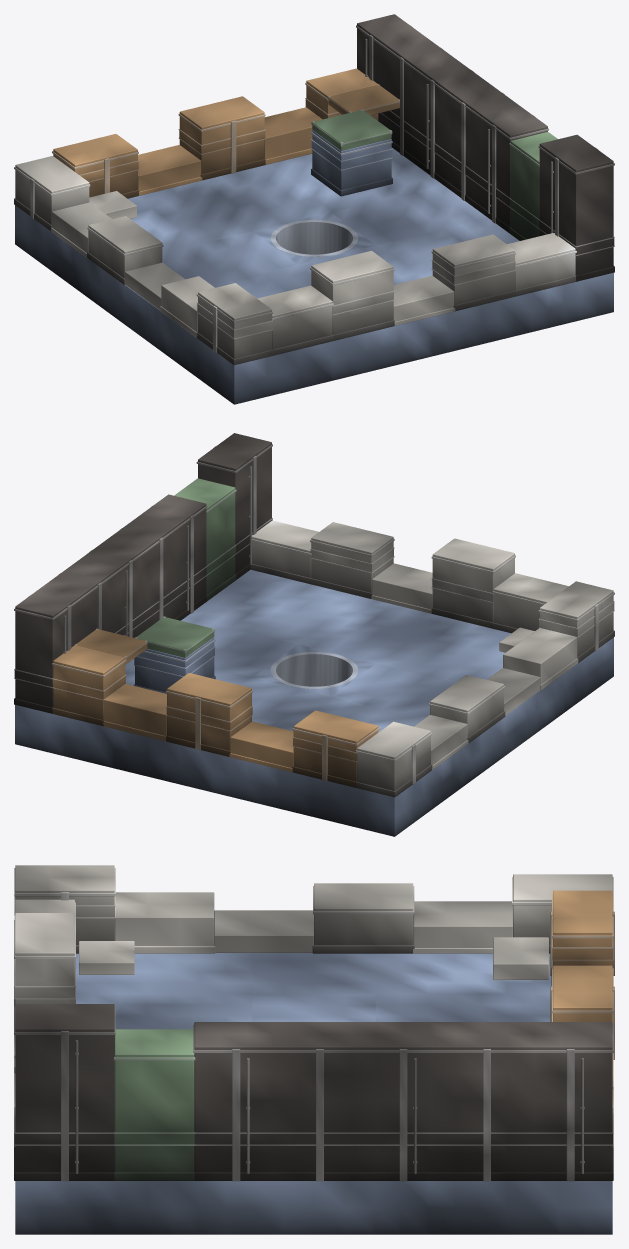
Rendered from SM_SecretTower_A.fbx.
The picture shows the model from 3 angles, top to bottom: view 1: azimuth 30°, elevation 25°; view 2: azimuth 150°, elevation 25°; view 3: azimuth 270°, elevation 25°; orthographic projection. The views are drawn at different scales.
Parts seen in each view (by area): view 1: SM_SecretTower_A; view 2: SM_SecretTower_A; view 3: SM_SecretTower_A.
Boxes of the visible parts, left/top/right/bottom form: SM_SecretTower_A: left=14, top=14, right=614, bottom=404; SM_SecretTower_A: left=14, top=433, right=614, bottom=836; SM_SecretTower_A: left=14, top=865, right=614, bottom=1234.
Bounding box in the file's own units: 3030 × 1140 × 3018.
